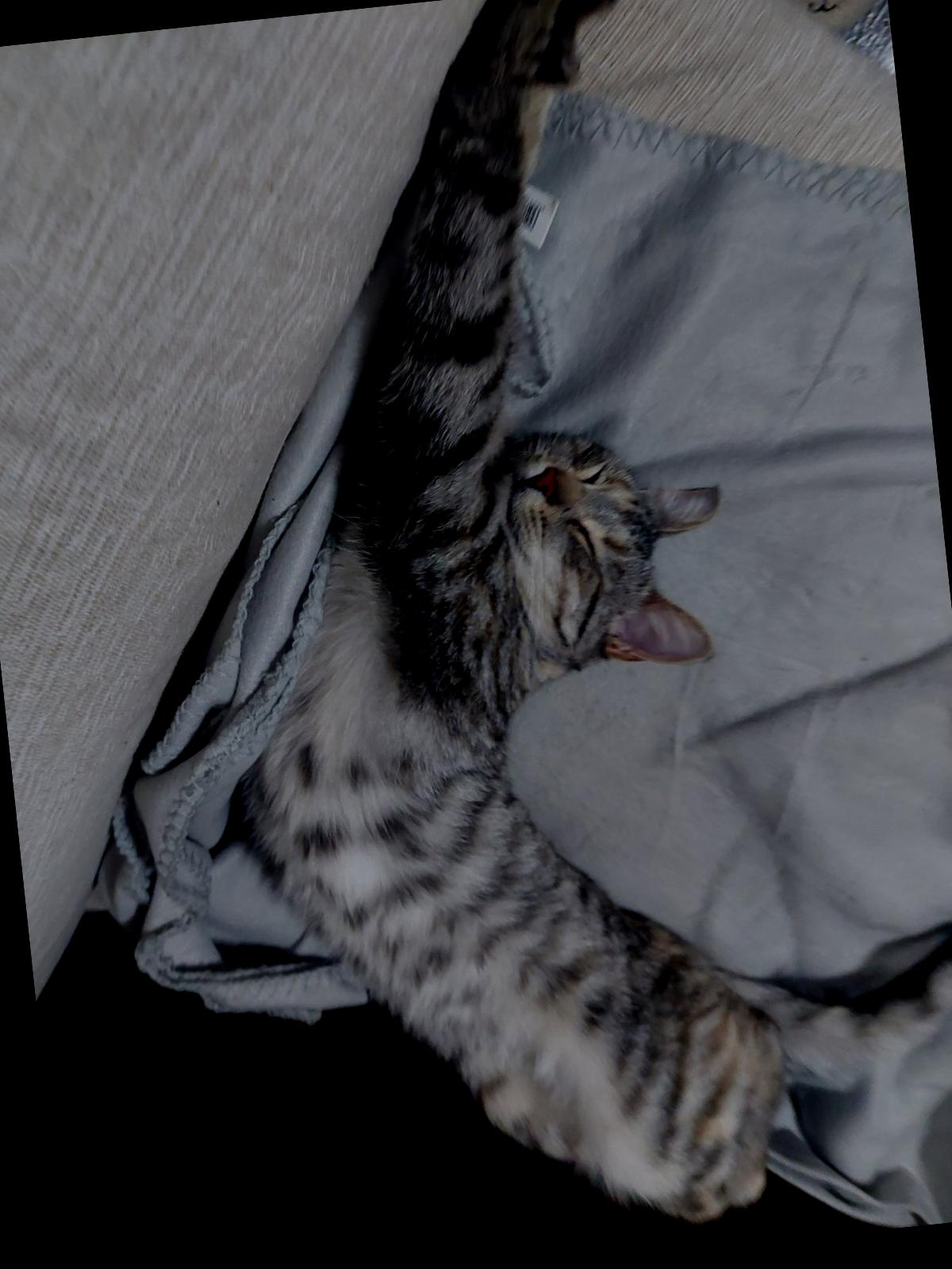macka: (146, 0, 952, 1267)
